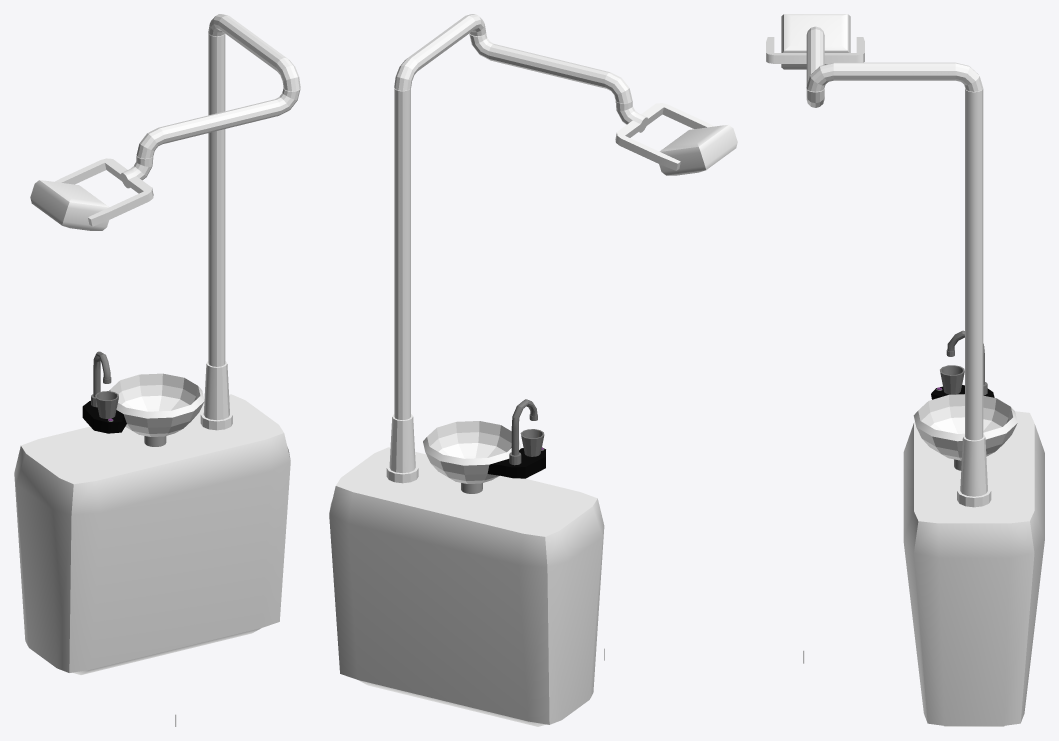
File: TableLightNoTV.fbx
3 views of the same model, side by side, from view 1: azimuth 30°, elevation 25°; view 2: azimuth 150°, elevation 25°; view 3: azimuth 270°, elevation 25° (orthographic). The views are drawn at different scales.
Parts seen in each view (by area): view 1: pCube22, pCylinder11, pSphere1, pTorus7, pCube25, pTorus6, pTorus5, pCylinder7, pCylinder6; view 2: pCube22, pCylinder11, pSphere1, pTorus7, pCube25, pTorus6, pTorus5, pCylinder7; view 3: pCube22, pCylinder11, pSphere1, pTorus5, pCube25, pTorus6, pTorus7, pCylinder6.
Part boxes in pixels (bbox=[...]): pCube22: bbox=[14, 394, 290, 674]; pCylinder11: bbox=[200, 33, 232, 430]; pSphere1: bbox=[82, 373, 204, 436]; pTorus7: bbox=[136, 88, 300, 158]; pCube25: bbox=[30, 180, 109, 230]; pTorus6: bbox=[54, 155, 153, 226]; pTorus5: bbox=[208, 14, 300, 91]; pCylinder7: bbox=[91, 351, 111, 407]; pCylinder6: bbox=[95, 391, 118, 418]; pCube22: bbox=[329, 447, 604, 726]; pCylinder11: bbox=[386, 88, 418, 483]; pSphere1: bbox=[423, 421, 545, 483]; pTorus7: bbox=[469, 33, 632, 103]; pCube25: bbox=[659, 124, 737, 175]; pTorus6: bbox=[615, 100, 714, 170]; pTorus5: bbox=[394, 14, 486, 90]; pCylinder7: bbox=[509, 399, 537, 465]; pCube22: bbox=[903, 411, 1044, 726]; pCylinder11: bbox=[957, 88, 991, 507]; pSphere1: bbox=[913, 385, 1017, 460]; pTorus5: bbox=[806, 62, 982, 91]; pCube25: bbox=[781, 14, 850, 69]; pTorus6: bbox=[766, 37, 864, 63]; pTorus7: bbox=[806, 26, 824, 107]; pCylinder6: bbox=[940, 365, 964, 394].
Bounding box in the file's own units: 127 × 254 × 96.85.
